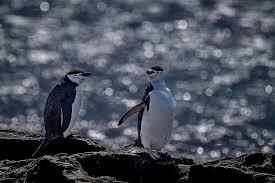chinstrap: (123, 65, 184, 165), (33, 62, 97, 147)
